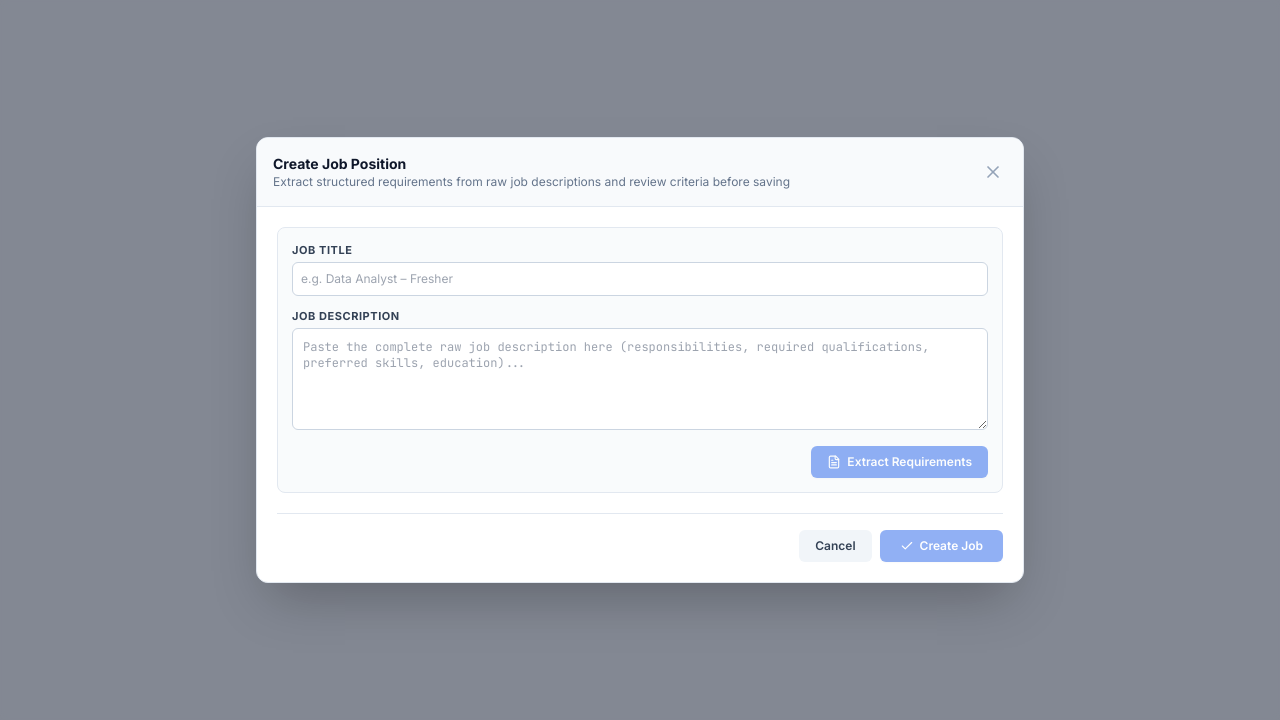
JobModal Component › extracts requirements and populates fields when API succeeds
Replace the text in the text box with placeholder "Paste the complete raw job description" with "Test Fresher Data Analyst JD" at (640, 379), box [292,328,988,430]
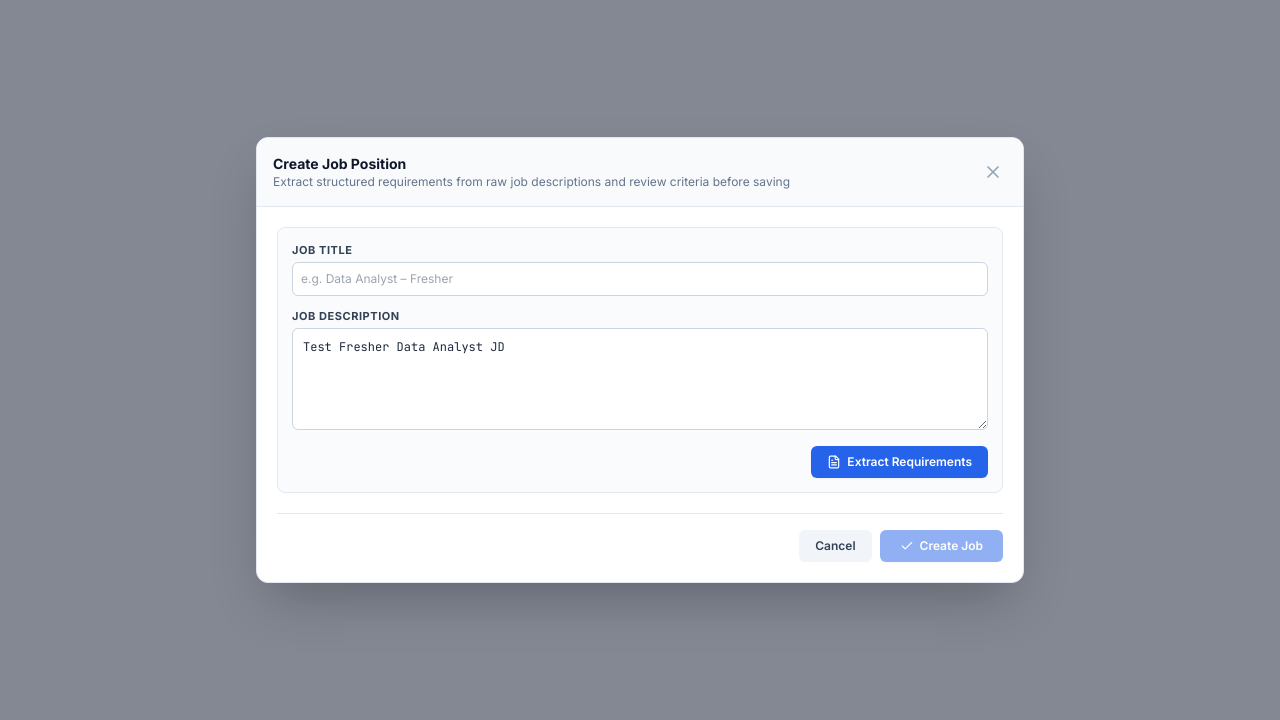
Result: the button "Extract Requirements" is enabled
Click the button "Extract Requirements".
click(900, 462)  # box [811,446,988,478]
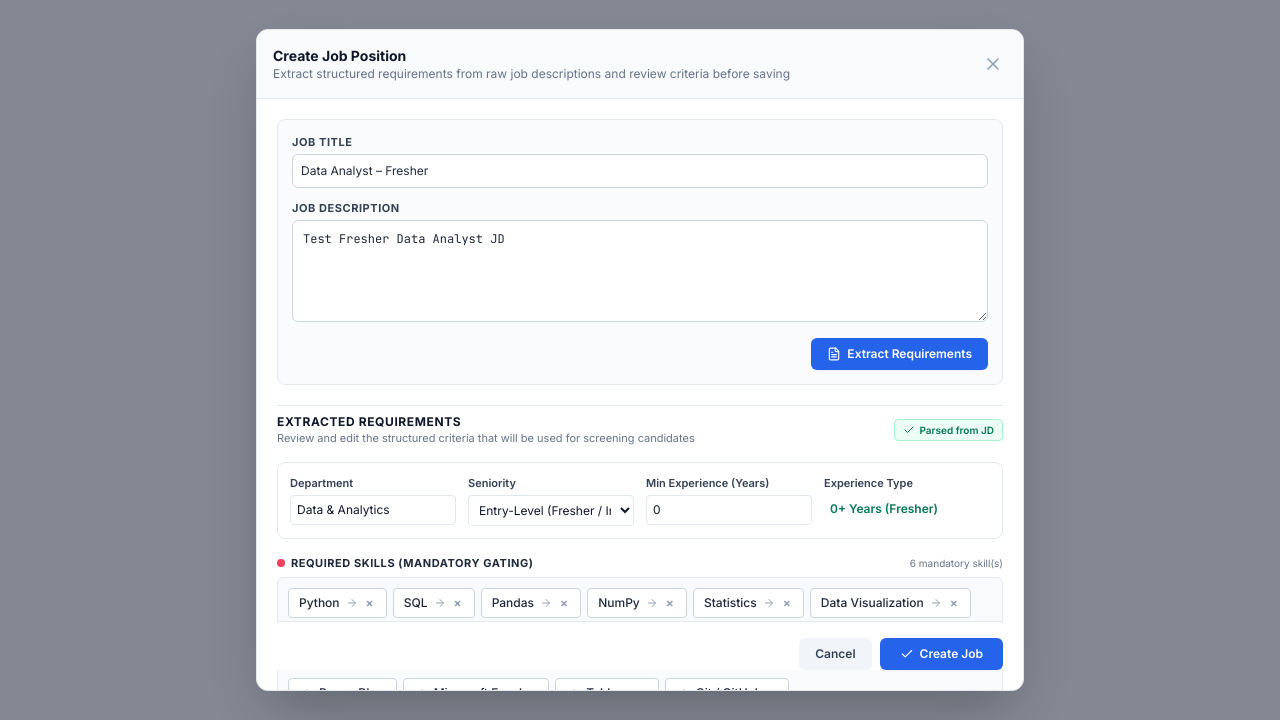
Result: the heading "Extracted Requirements" is shown at [277,414,461,429]
Result: the text "Python" is shown at [299,595,340,611]
Result: the text "SQL" is shown at [404,595,428,611]
